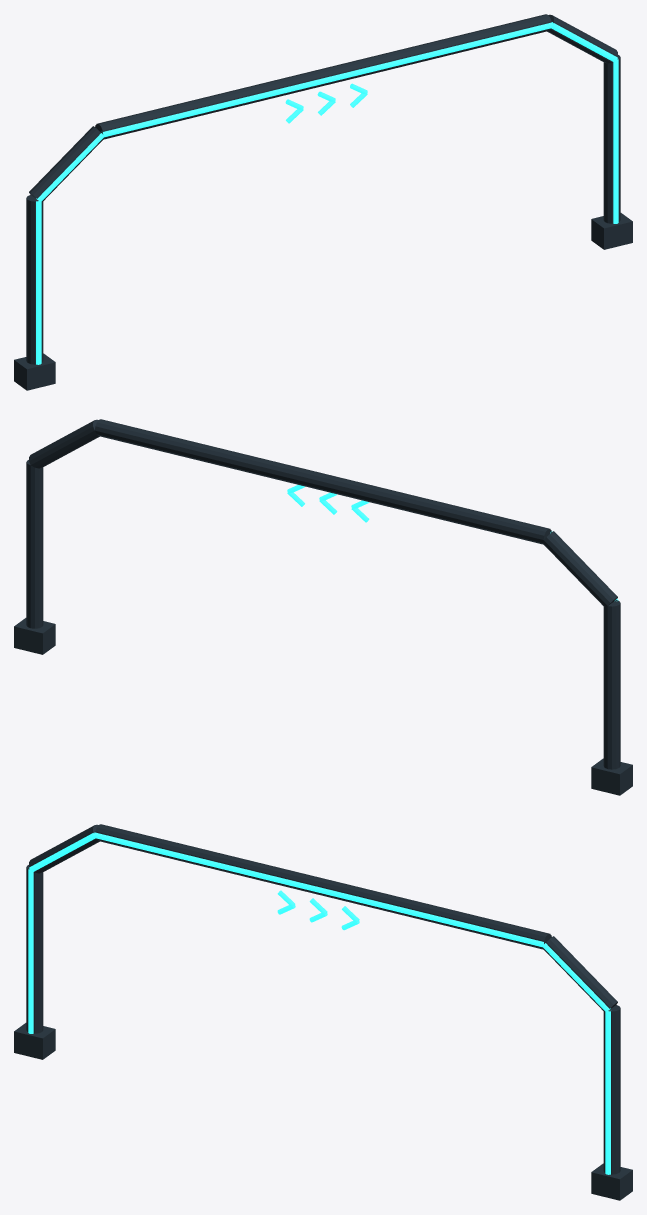
File: navigation-gate.glb
3 views of the same model, one above another, from view 1: azimuth 30°, elevation 25°; view 2: azimuth 150°, elevation 25°; view 3: azimuth 330°, elevation 25° (orthographic).
Parts seen in each view (by area): view 1: Cylinder.004, Cylinder.005, Cylinder.008, Cylinder, Cylinder.002, Cube.001, Cube, Cylinder.001, Cylinder.009, Cylinder.006; view 2: Cylinder.004, Cylinder, Cylinder.008, Cylinder.002, Cylinder.006, Cube.001, Cube; view 3: Cylinder.004, Cylinder.005, Cylinder, Cylinder.008, Cylinder.006, Cube, Cube.001, Cylinder.009, Cylinder.001, Cylinder.002.
Boxes of the visible parts, <box> form: Cylinder.004: <box>95,14,551,139</box>; Cylinder.005: <box>102,22,552,137</box>; Cylinder.008: <box>603,55,620,223</box>; Cylinder: <box>26,195,43,364</box>; Cylinder.002: <box>29,126,103,201</box>; Cube.001: <box>591,213,632,249</box>; Cube: <box>14,353,55,390</box>; Cylinder.001: <box>36,201,41,364</box>; Cylinder.009: <box>613,59,618,223</box>; Cylinder.006: <box>547,14,617,63</box>; Cylinder.004: <box>95,419,551,544</box>; Cylinder: <box>603,600,620,769</box>; Cylinder.008: <box>26,460,43,628</box>; Cylinder.002: <box>543,531,617,606</box>; Cylinder.006: <box>29,419,99,468</box>; Cube.001: <box>14,618,55,654</box>; Cube: <box>591,758,632,795</box>; Cylinder.004: <box>95,824,551,949</box>; Cylinder.005: <box>94,832,543,947</box>; Cylinder: <box>26,865,43,1033</box>; Cylinder.008: <box>603,1005,620,1174</box>; Cylinder.006: <box>543,936,617,1011</box>; Cube: <box>14,1023,55,1059</box>; Cube.001: <box>591,1163,632,1200</box>; Cylinder.009: <box>605,1010,610,1174</box>; Cylinder.001: <box>28,869,33,1033</box>; Cylinder.002: <box>29,824,99,873</box>.
Size of the model in its own units: 18.9 by 7.23 by 0.7.
